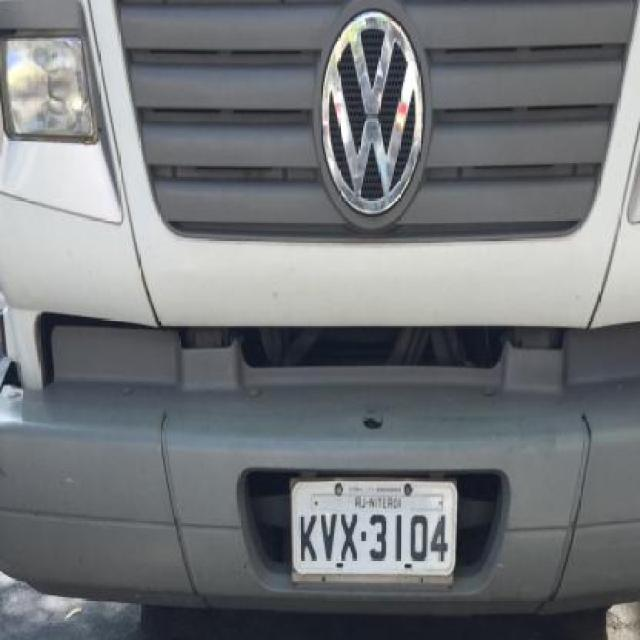old_plate: (282, 472, 464, 589)
